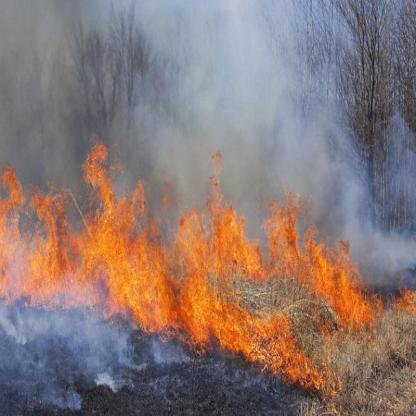fire: (0, 140, 387, 380), (398, 275, 414, 317)
